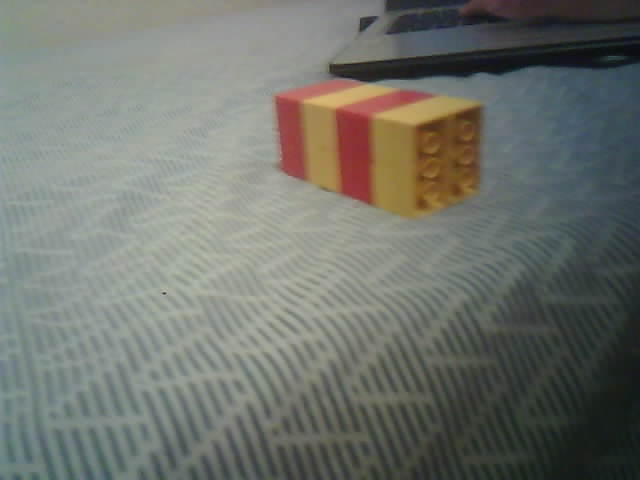lego: (273, 75, 484, 218)
